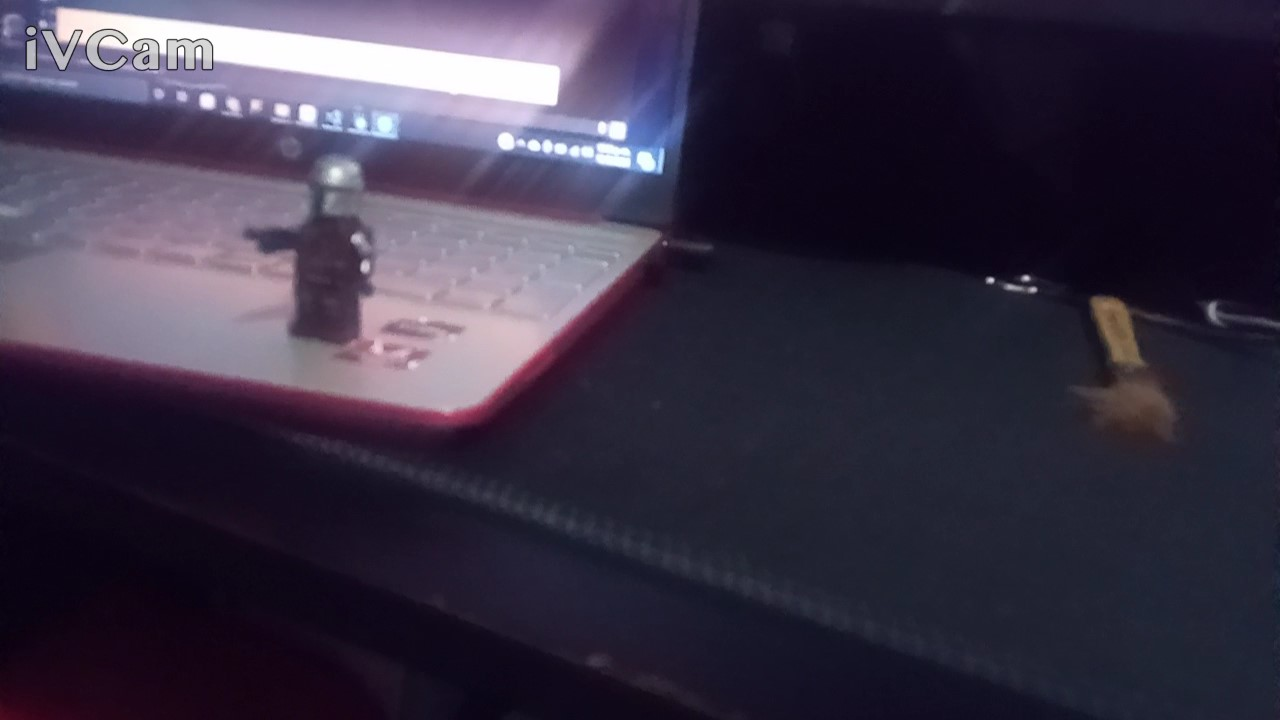mandalorian: (237, 131, 394, 348)
